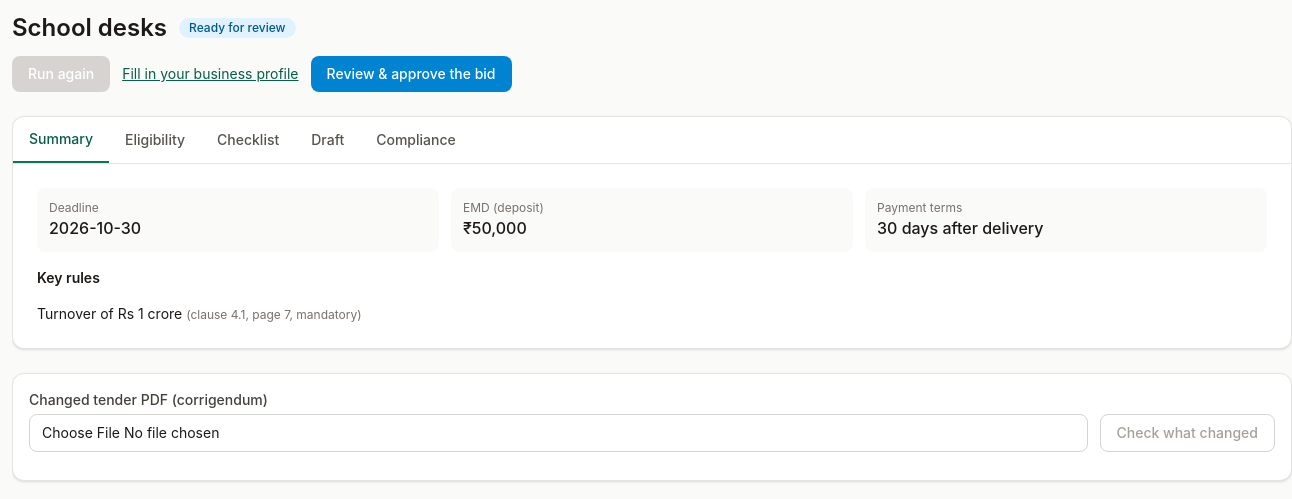
eligibility tab shows each verdict with clause and page
What coordinates should you click on to do the following:
click the tab "Eligibility"
I would click on:
 (155, 140)
Its box is [109,117,201,163].
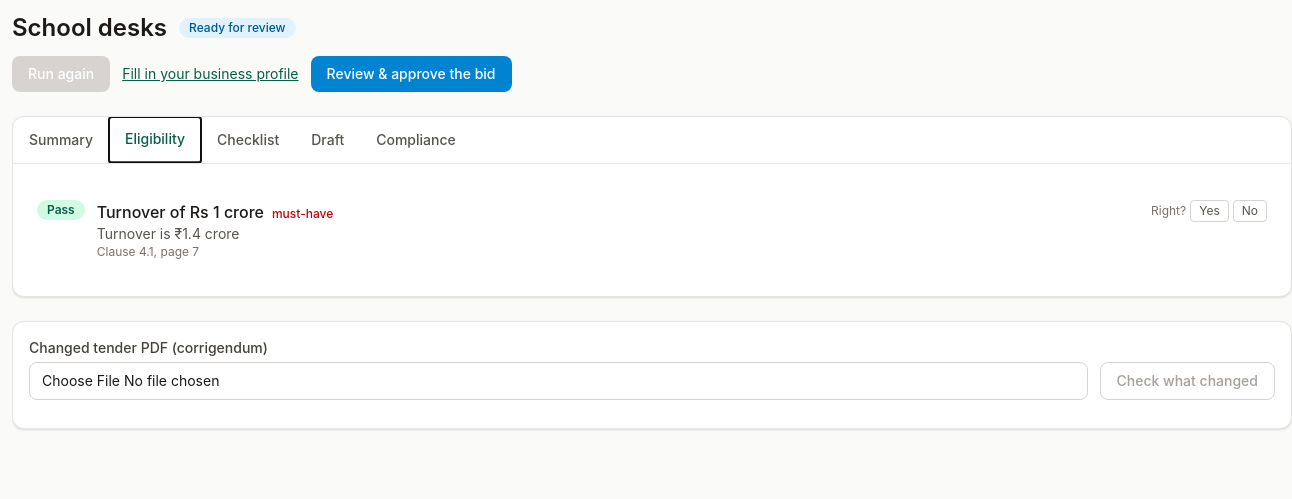
Expected: the text "Clause 4.1, page 7" is shown, [97,244,199,259]
Expected: the text "Pass" is shown, [37,200,85,220]
Expected: the text "Turnover is ₹1.4 crore" is shown, [97,225,240,242]
